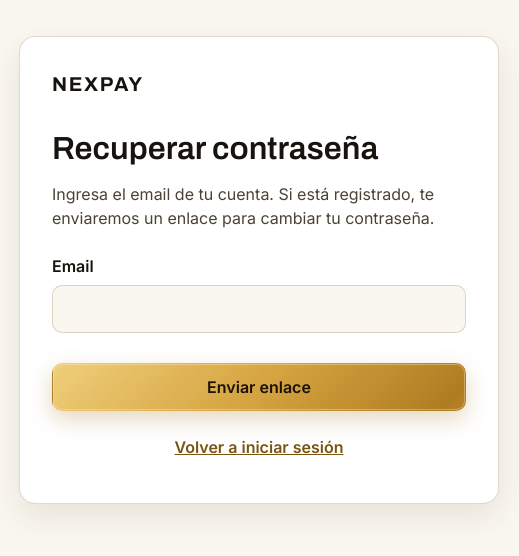
Test: recuperación de contraseña › no muestra errores del servidor que puedan revelar si el email existe
This screenshot has width=519, height=556.
Type "ana@nexpay.com" into the field labelled "Email" at [259, 309], box [52, 285, 466, 333]
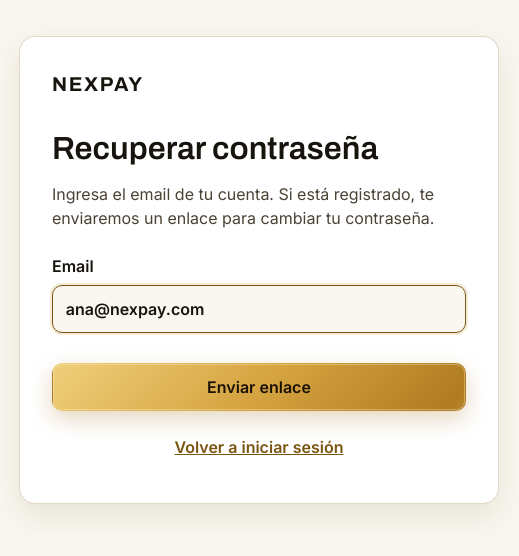
Click the button "Enviar enlace" at [259, 388], box [52, 364, 466, 412]
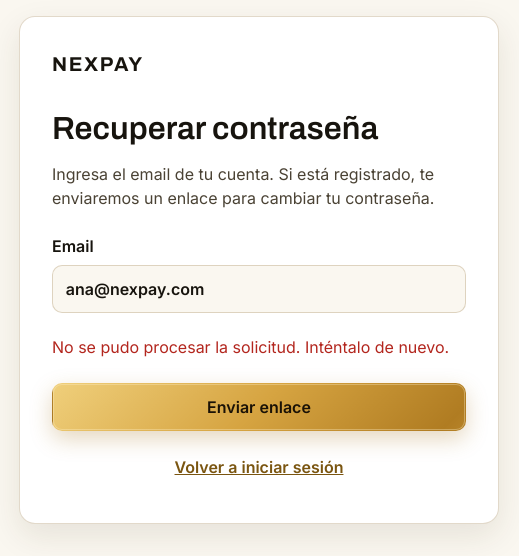
Check: the message shows "No se pudo procesar la solicitud.", box [52, 338, 449, 358]
